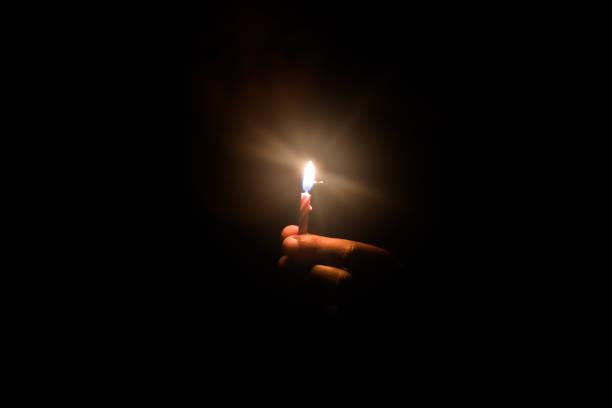Fire: (235, 137, 389, 192)
